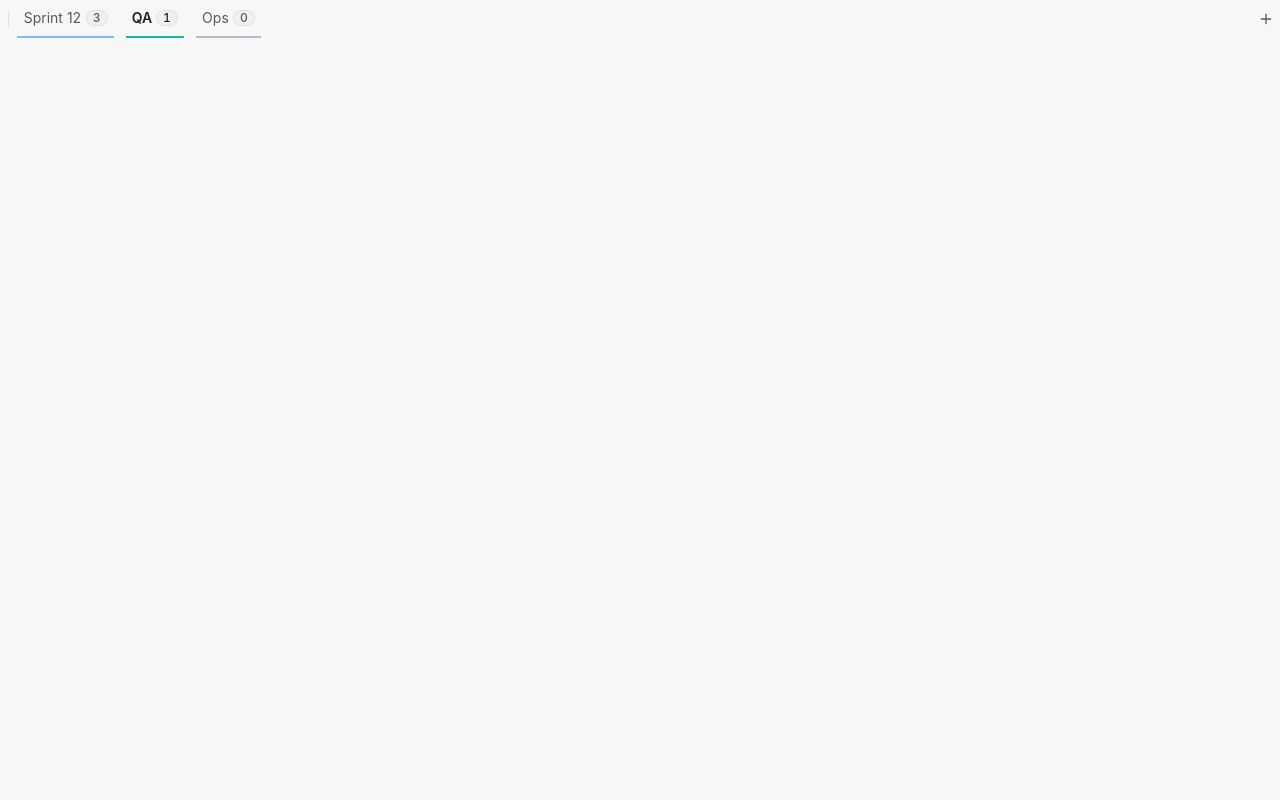
Test: GroupTabStrip › group menu › Rename via right-click keeps the tab; a vanished group clears pending with a toast
Right-click the button with aria-label "Sprint 12, 3 issues".
right_click(65, 19)  # box 17,0 -> 114,38
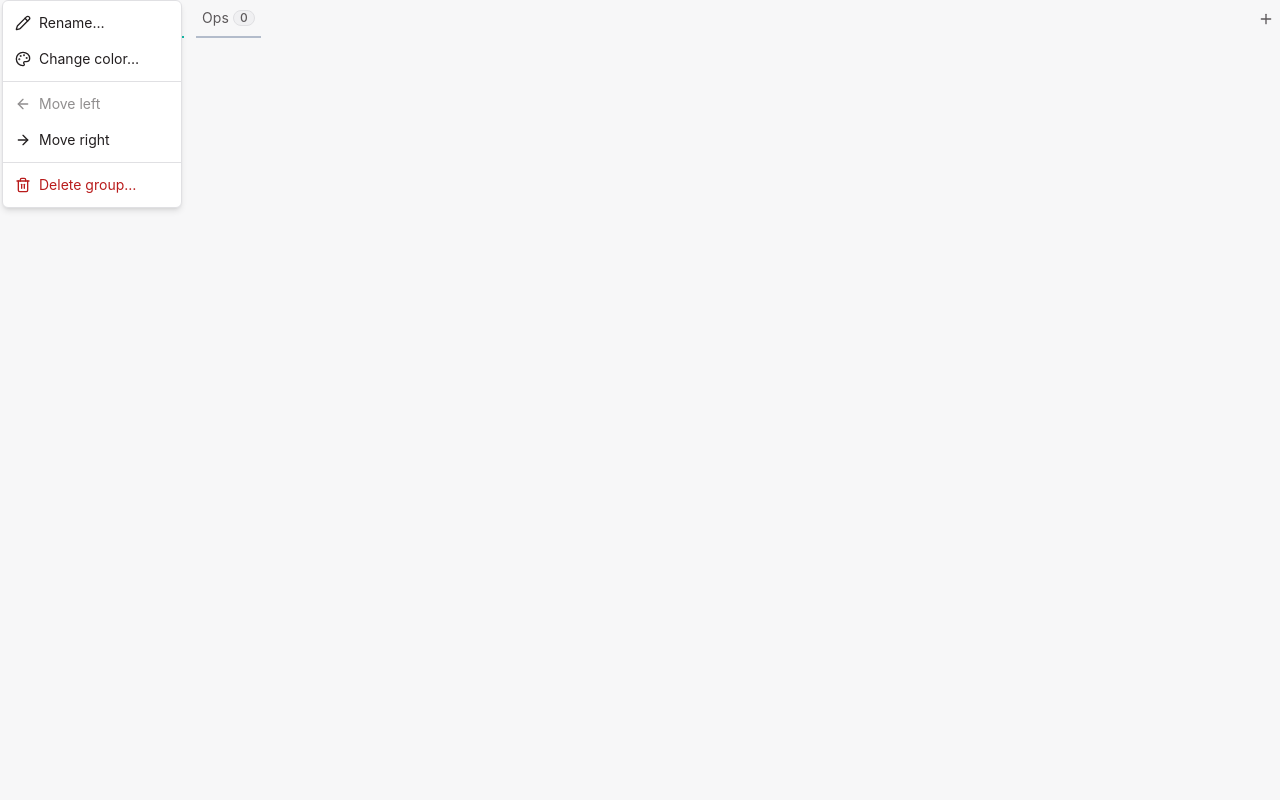
Click the menu item "Rename…".
click(60, 22)  # box 15,14 -> 105,31
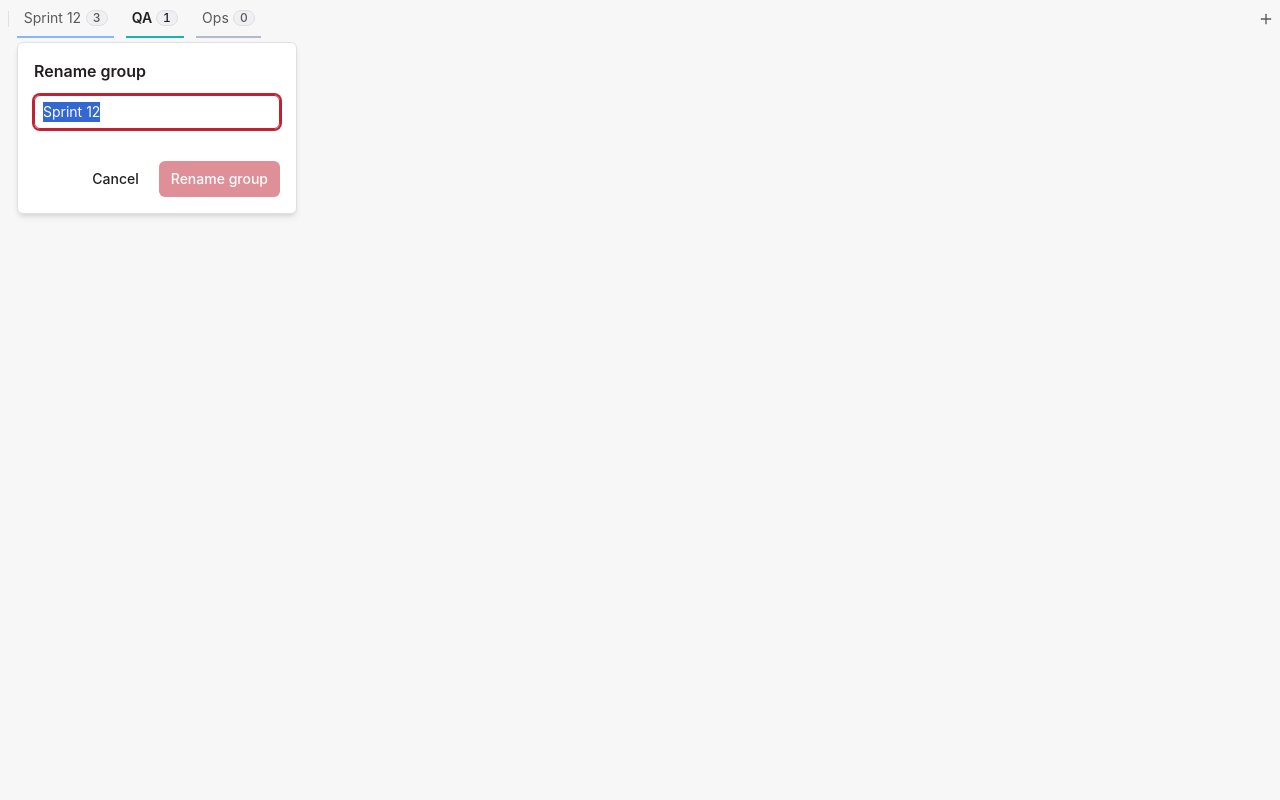
Expected: the menu is gone
